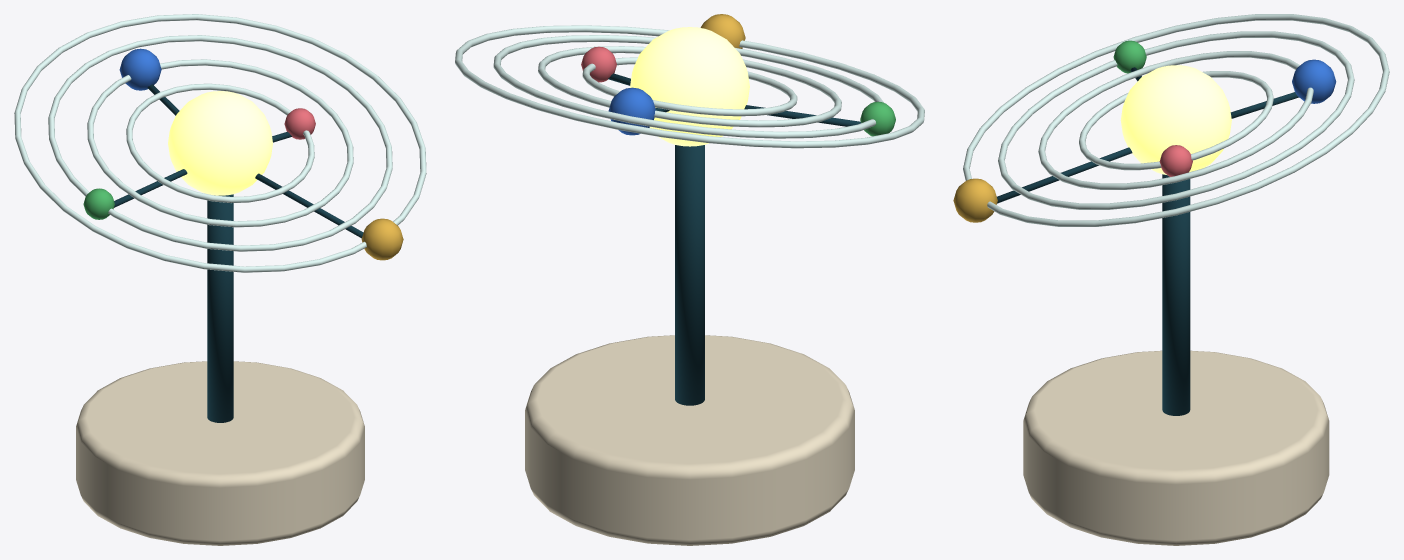
File: orrery.glb
3 views of the same model, side by side, from view 1: azimuth 30°, elevation 25°; view 2: azimuth 150°, elevation 25°; view 3: azimuth 270°, elevation 25° (orthographic). The views are drawn at different scales.
Parts seen in each view (by area): view 1: orrery; view 2: orrery; view 3: orrery.
Boxes of the visible parts, x1,y1,x2,y2 form: orrery: [14, 14, 426, 545]; orrery: [455, 14, 924, 545]; orrery: [953, 14, 1389, 545].
Bounding box in the file's own units: 1.58 × 1.65 × 1.57.
